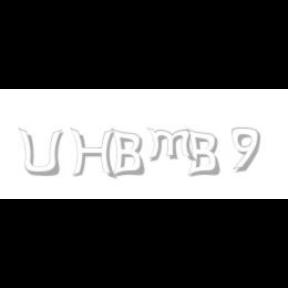9: (232, 128, 260, 172)
B: (110, 128, 144, 178), (186, 128, 220, 178)
H: (70, 128, 116, 180)
U: (18, 128, 62, 178)
m: (146, 128, 198, 162)
